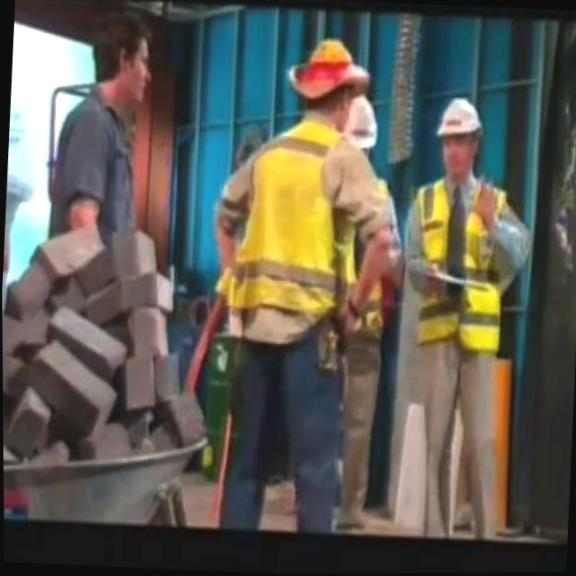safety_vest: (214, 113, 351, 321), (409, 166, 513, 356), (339, 167, 392, 329)
